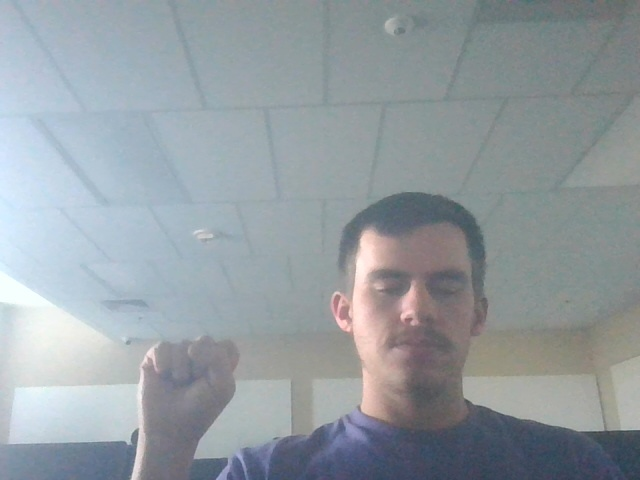yes: (124, 323, 262, 442)
